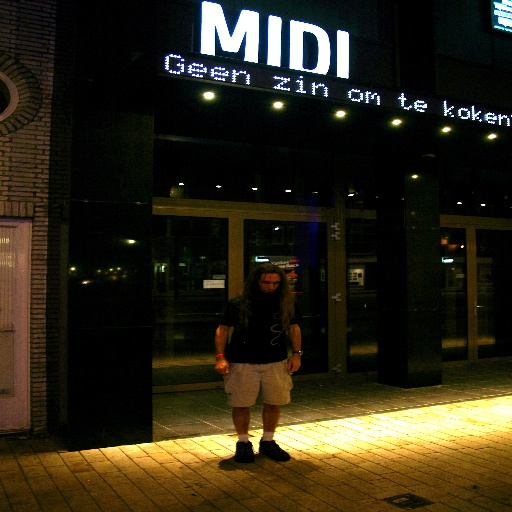hand: (285, 354, 301, 375), (214, 355, 228, 373)
